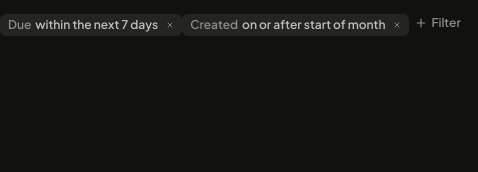
PredicateChips — date chips › a chip’s × clears only its date type
Click the 1st button named "Remove filter".
click(170, 25)  # box left=162, top=17, right=178, bottom=33
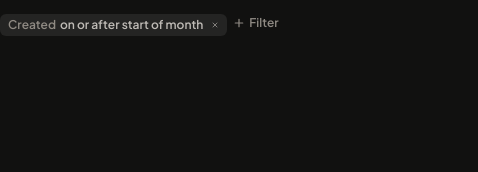
Check: the elements with test id "list-filter-chip" read "Createdon or after start of month", in this order, box left=0, top=14, right=227, bottom=36
